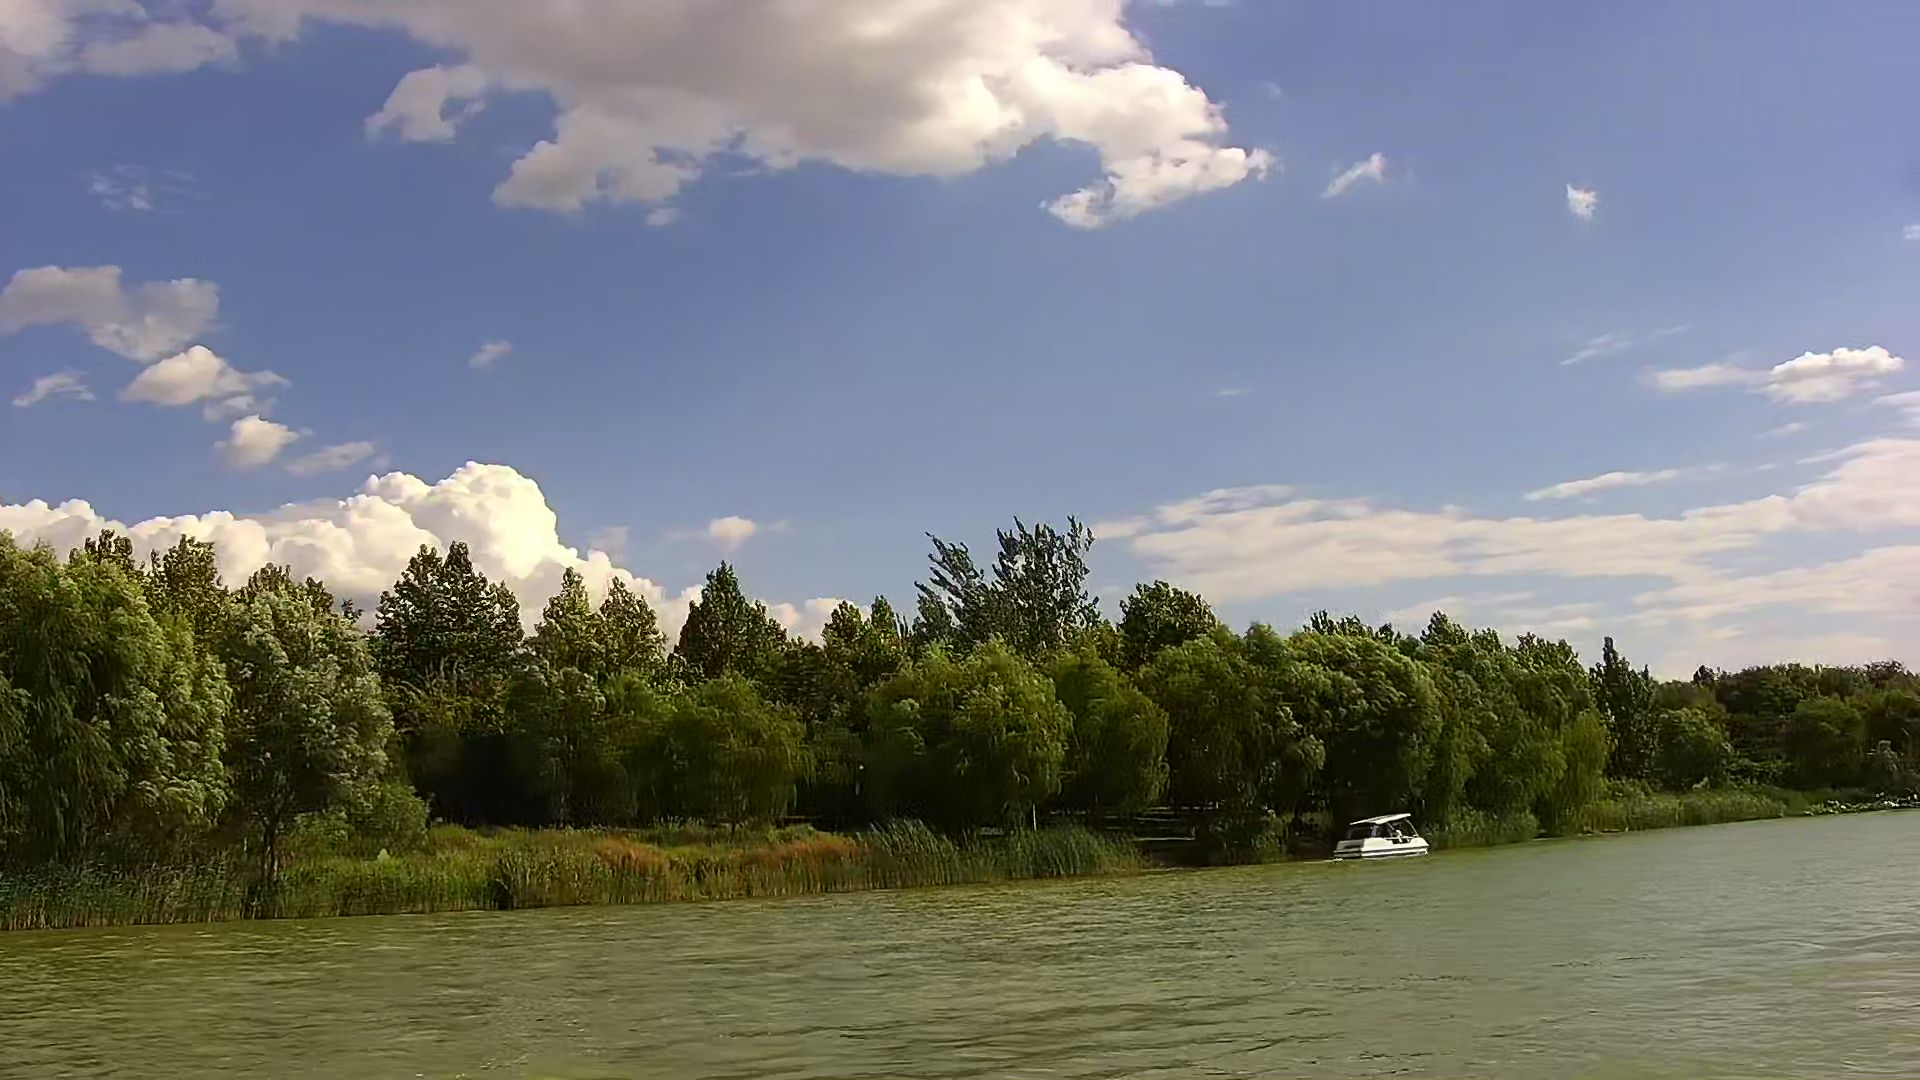boat: (1333, 812, 1429, 861)
